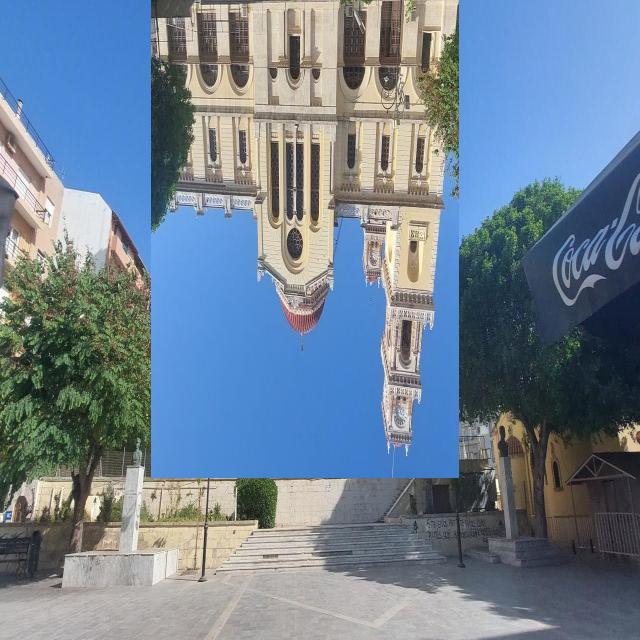Agios Minas: (152, 1, 460, 479)
